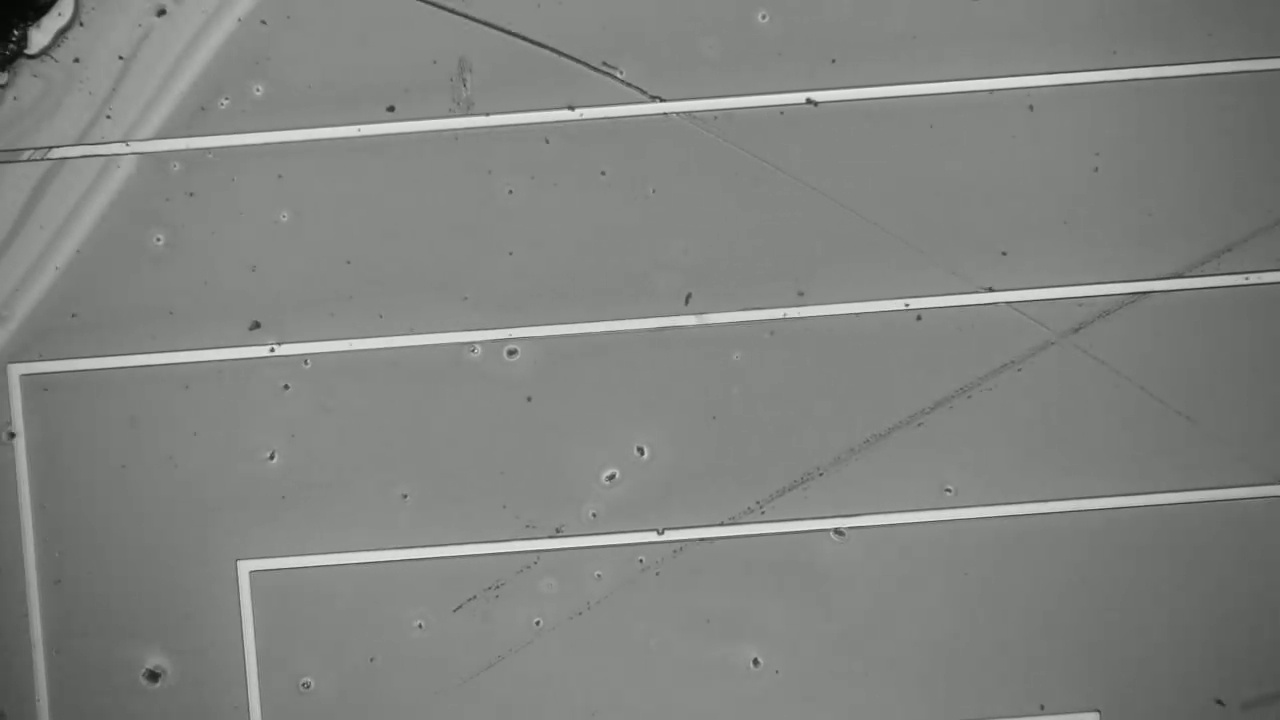edge_bite: (649, 524, 673, 546)
gray_line: (0, 134, 73, 171)
scratch: (476, 214, 1278, 677), (680, 116, 1196, 421), (417, 2, 655, 107)
stains_enbedded: (793, 84, 828, 110)
